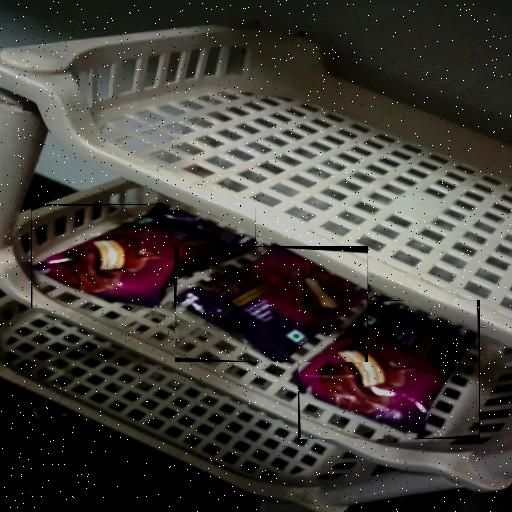Choco Pie: (298, 300, 480, 439), (31, 204, 256, 308), (175, 246, 368, 362)
